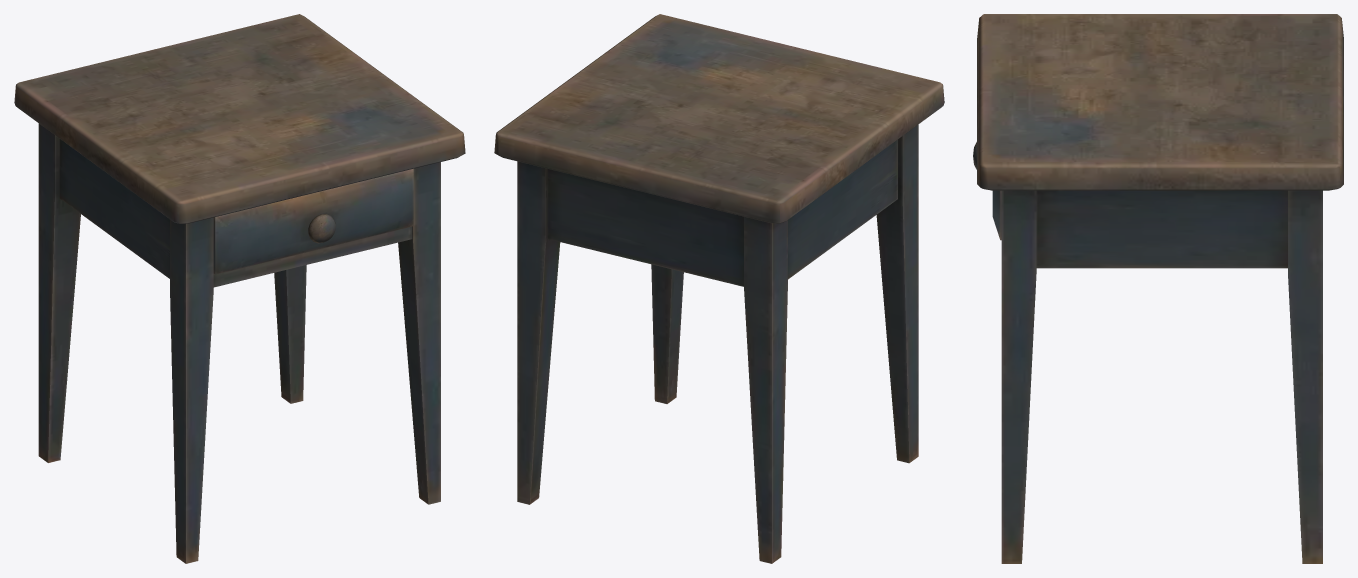
The model's file is painted_wooden_nightstand.glb.
3 renders of one model, left to right at view 1: azimuth 30°, elevation 25°; view 2: azimuth 150°, elevation 25°; view 3: azimuth 270°, elevation 25°, orthographic. The views are drawn at different scales.
Parts seen in each view (by area): view 1: painted_wooden_nightstand; view 2: painted_wooden_nightstand; view 3: painted_wooden_nightstand.
Part boxes in pixels (x1,y1,x2,y2): painted_wooden_nightstand: (14, 14, 465, 563); painted_wooden_nightstand: (494, 14, 944, 563); painted_wooden_nightstand: (973, 14, 1343, 563).
Size of the model in its own units: 0.8197 by 1 by 0.8265.
1 material, 1 textured.
